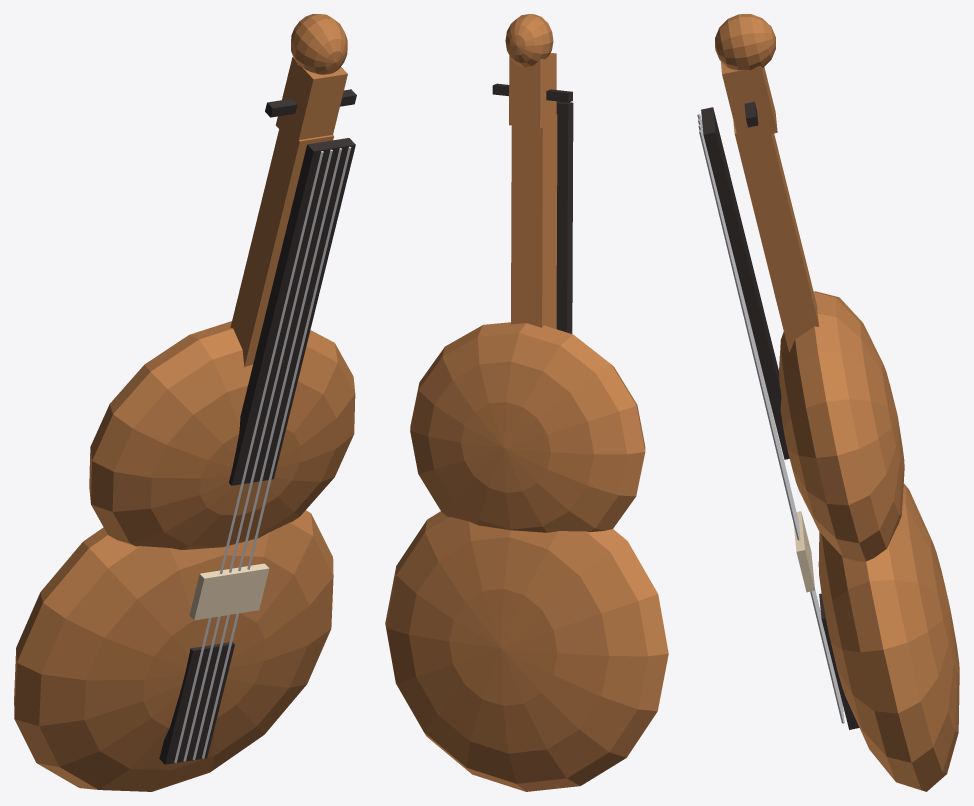
File: Cello_Carried.glb
3 views of the same model, side by side, from view 1: azimuth 30°, elevation 25°; view 2: azimuth 150°, elevation 25°; view 3: azimuth 270°, elevation 25° (orthographic). The views are drawn at different scales.
Parts seen in each view (by area): view 1: Cello_LowerBout, Cello_UpperBout, Cello_Fingerboard, Cello_Neck, Cello_Tailpiece, Cello_Pegbox, Cello_Bridge, Cello_Scroll, Cello_String.001, Cello_String.002, Cello_String, Cello_String.003 (+1 smaller); view 2: Cello_LowerBout, Cello_UpperBout, Cello_Neck, Cello_Fingerboard, Cello_Pegbox, Cello_Scroll, Cello_Pegs; view 3: Cello_LowerBout, Cello_UpperBout, Cello_Neck, Cello_Fingerboard, Cello_Scroll, Cello_Pegbox, Cello_String.003, Cello_Bridge, Cello_String.002, Cello_Tailpiece, Cello_String.001.
Part boxes in pixels (bbox=[...]): Cello_LowerBout: bbox=[14, 510, 333, 791]; Cello_UpperBout: bbox=[89, 321, 355, 549]; Cello_Fingerboard: bbox=[229, 138, 355, 485]; Cello_Neck: bbox=[230, 122, 333, 366]; Cello_Tailpiece: bbox=[159, 641, 234, 764]; Cello_Pegbox: bbox=[275, 57, 347, 139]; Cello_Bridge: bbox=[189, 563, 269, 620]; Cello_Scroll: bbox=[291, 14, 347, 74]; Cello_String.001: bbox=[183, 149, 332, 761]; Cello_String.002: bbox=[192, 148, 341, 760]; Cello_String: bbox=[174, 151, 323, 762]; Cello_String.003: bbox=[202, 146, 351, 758]; Cello_LowerBout: bbox=[385, 511, 668, 791]; Cello_UpperBout: bbox=[410, 322, 645, 532]; Cello_Neck: bbox=[511, 114, 557, 329]; Cello_Fingerboard: bbox=[556, 101, 573, 333]; Cello_Pegbox: bbox=[509, 53, 556, 128]; Cello_Scroll: bbox=[505, 14, 553, 67]; Cello_Pegs: bbox=[492, 83, 572, 102]; Cello_LowerBout: bbox=[818, 483, 959, 791]; Cello_UpperBout: bbox=[779, 291, 904, 561]; Cello_Neck: bbox=[733, 120, 819, 352]; Cello_Fingerboard: bbox=[701, 107, 789, 459]; Cello_Scroll: bbox=[715, 14, 775, 70]; Cello_Pegbox: bbox=[720, 61, 777, 140]; Cello_String.003: bbox=[699, 130, 844, 723]; Cello_Bridge: bbox=[793, 511, 814, 592]; Cello_String.002: bbox=[698, 125, 844, 717]; Cello_Tailpiece: bbox=[819, 593, 859, 729]; Cello_String.001: bbox=[698, 119, 843, 711].
Bounding box in the file's own units: 0.5496 × 1.33 × 0.3989.
